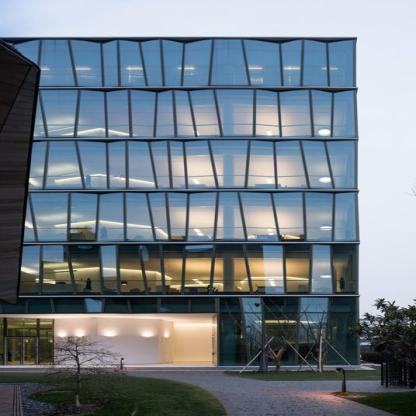Building Outline: (0, 37, 362, 366)
Door: (5, 336, 38, 365)
Facade: (0, 37, 362, 366)
Floor Slab: (1, 295, 359, 297), (1, 242, 359, 244), (1, 138, 358, 140), (2, 190, 358, 192), (1, 86, 356, 88)
Glass Wall: (0, 297, 359, 366), (19, 244, 356, 295), (23, 192, 356, 242), (12, 39, 354, 87), (28, 140, 355, 190), (33, 89, 355, 138), (0, 318, 54, 365)
